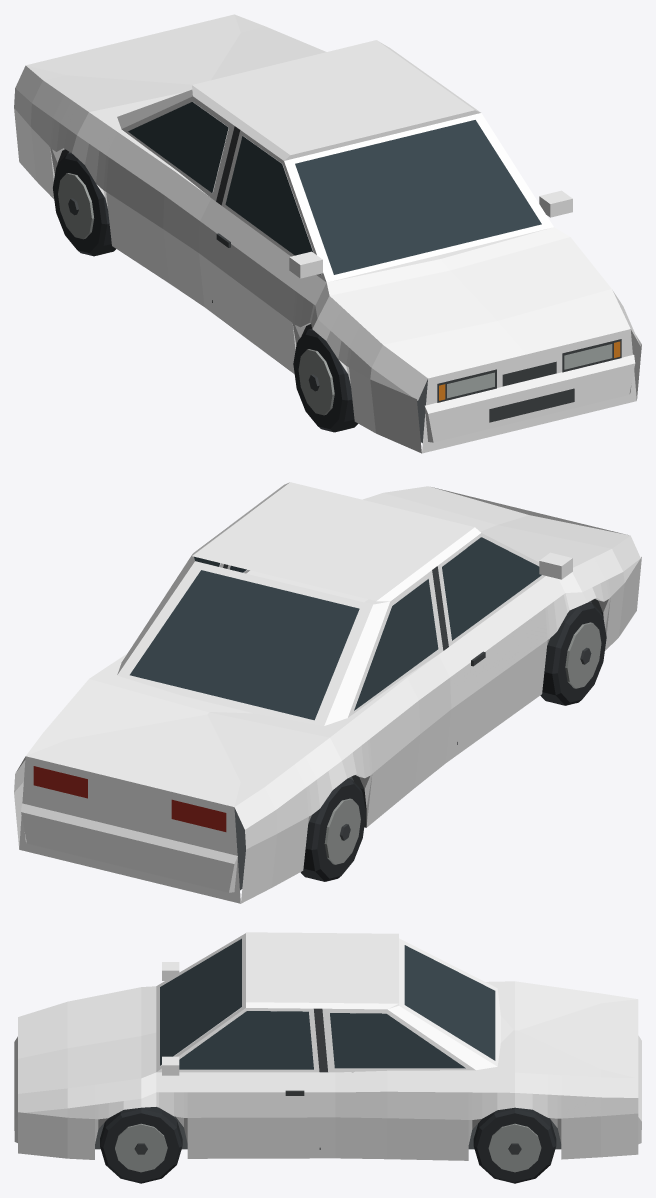
The model's file is kanaya_murasame.glb.
The picture shows the model from 3 angles, top to bottom: view 1: azimuth 30°, elevation 25°; view 2: azimuth 150°, elevation 25°; view 3: azimuth 270°, elevation 25°; orthographic projection. The views are drawn at different scales.
Visible parts, largest first — view 1: kanaya_murasame; view 2: kanaya_murasame; view 3: kanaya_murasame.
Part boxes in pixels (x1,y1,x2,y2): kanaya_murasame: (14,14,641,453); kanaya_murasame: (14,482,641,903); kanaya_murasame: (14,932,641,1183).
Bounding box in the file's own units: 1.71 × 1.28 × 4.35.
Materials: 8 (1 with a texture image).
